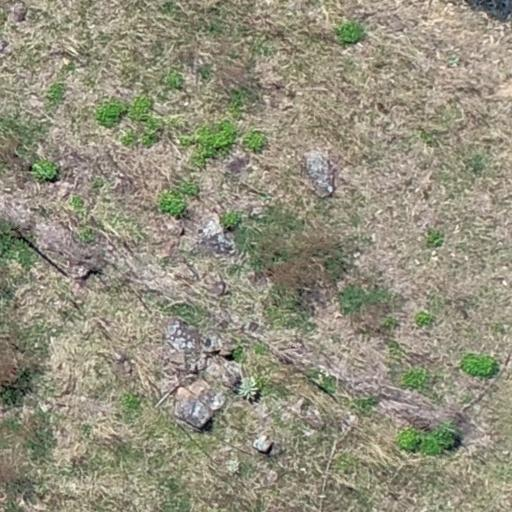stone: (168, 316, 223, 355), (170, 387, 206, 420), (204, 359, 236, 389), (222, 148, 254, 176), (204, 216, 230, 248), (308, 154, 329, 192), (284, 397, 310, 419), (343, 413, 359, 426), (257, 437, 271, 450)
